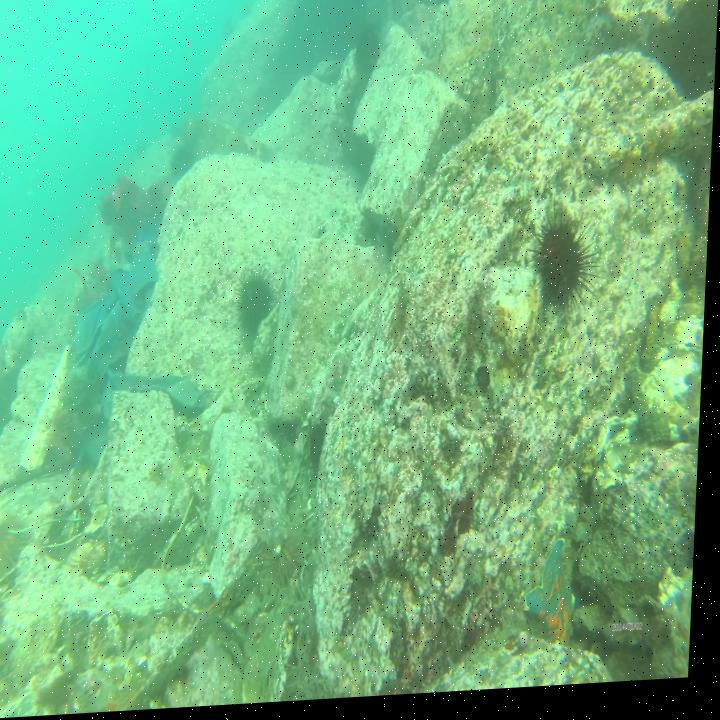echinus: (530, 212, 603, 328), (265, 526, 310, 597), (235, 269, 280, 335), (0, 506, 33, 587), (352, 26, 383, 82), (173, 144, 197, 184)
scallop: (71, 539, 113, 580)
starfish: (528, 541, 586, 661)
